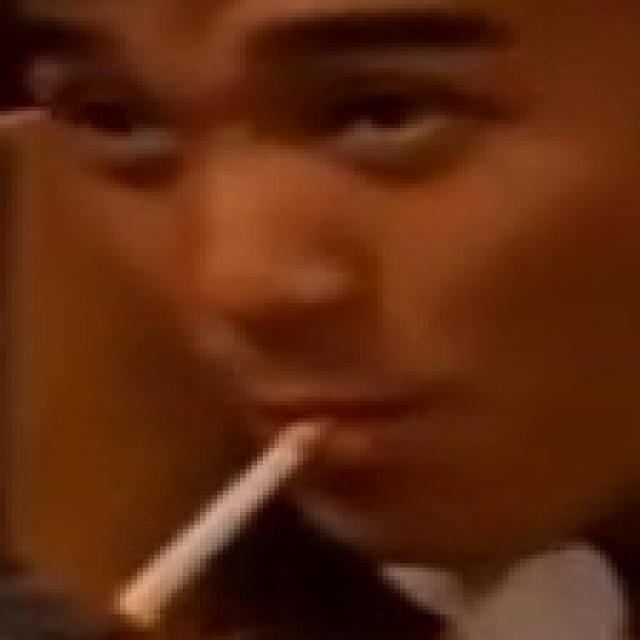smoking: (116, 412, 340, 626)
